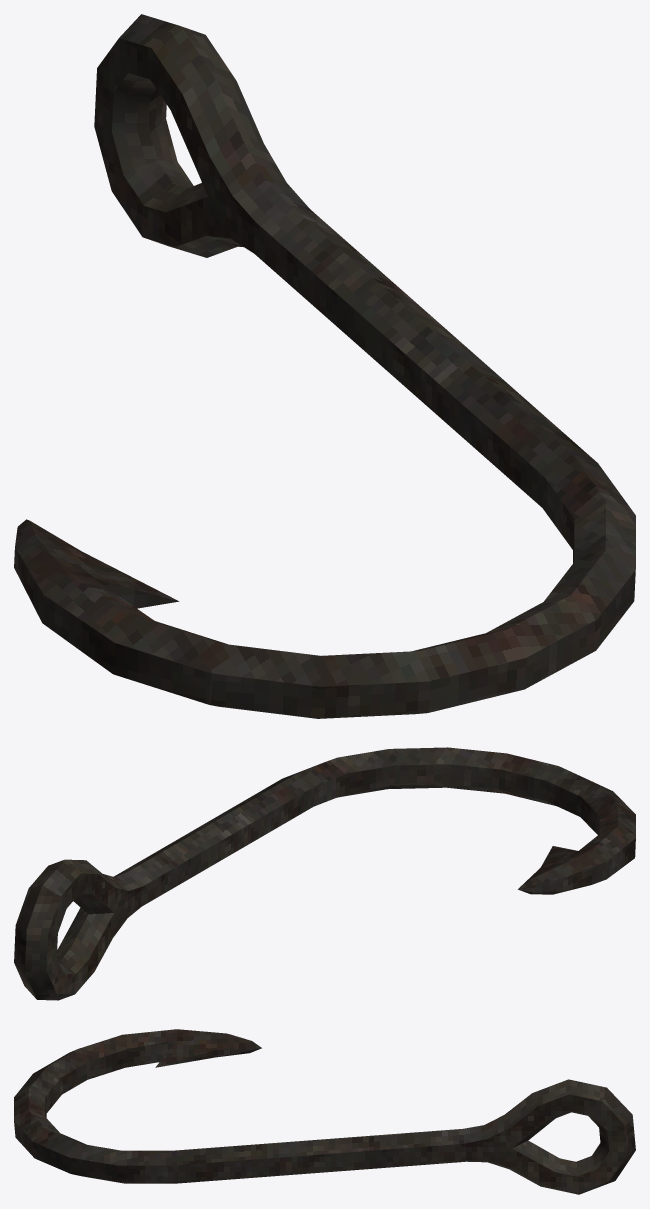
Rendered from fishing_hook_mx_1.glb.
3 views of the same model, one above another, from view 1: azimuth 30°, elevation 25°; view 2: azimuth 150°, elevation 25°; view 3: azimuth 270°, elevation 25° (orthographic). The views are drawn at different scales.
Visible parts, largest first — view 1: fishing_hook_mx_1; view 2: fishing_hook_mx_1; view 3: fishing_hook_mx_1.
Part boxes in pixels (left/top/right/bottom): fishing_hook_mx_1: left=14, top=14, right=635, bottom=718; fishing_hook_mx_1: left=14, top=747, right=635, bottom=1000; fishing_hook_mx_1: left=14, top=1029, right=635, bottom=1194.
Size of the model in its own units: 0.1757 by 0.0698 by 0.3407.
1 material, 1 textured.
